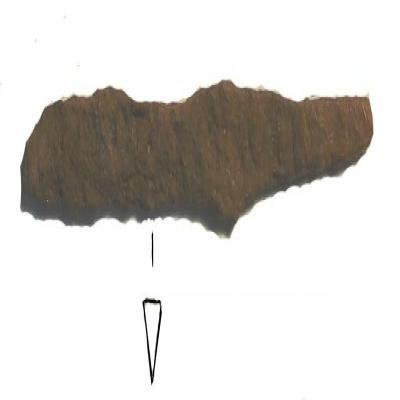archeology: (20, 80, 374, 239)
